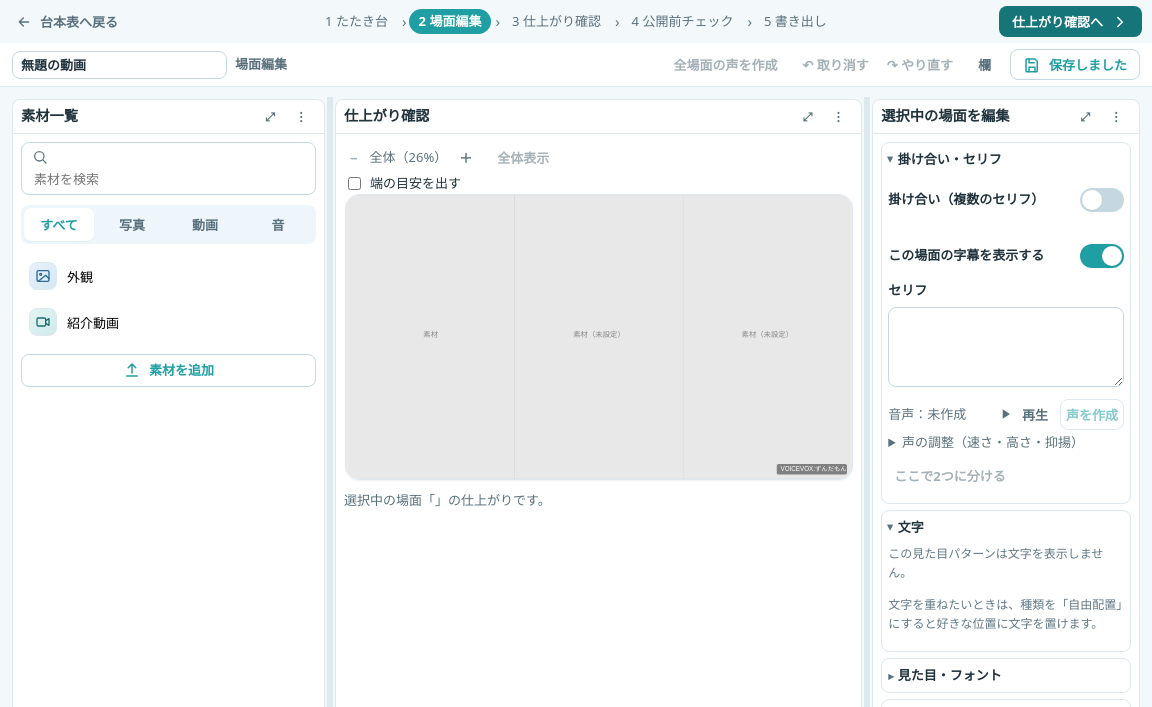
Test case: 掴んで差し込み口へ落とす（#1030 ②） › 入っている口へ落とすと、入れ替える前に確認を出す
Press the mouse on the button "外観": {"x": 43, "y": 276} [21, 254, 316, 298]
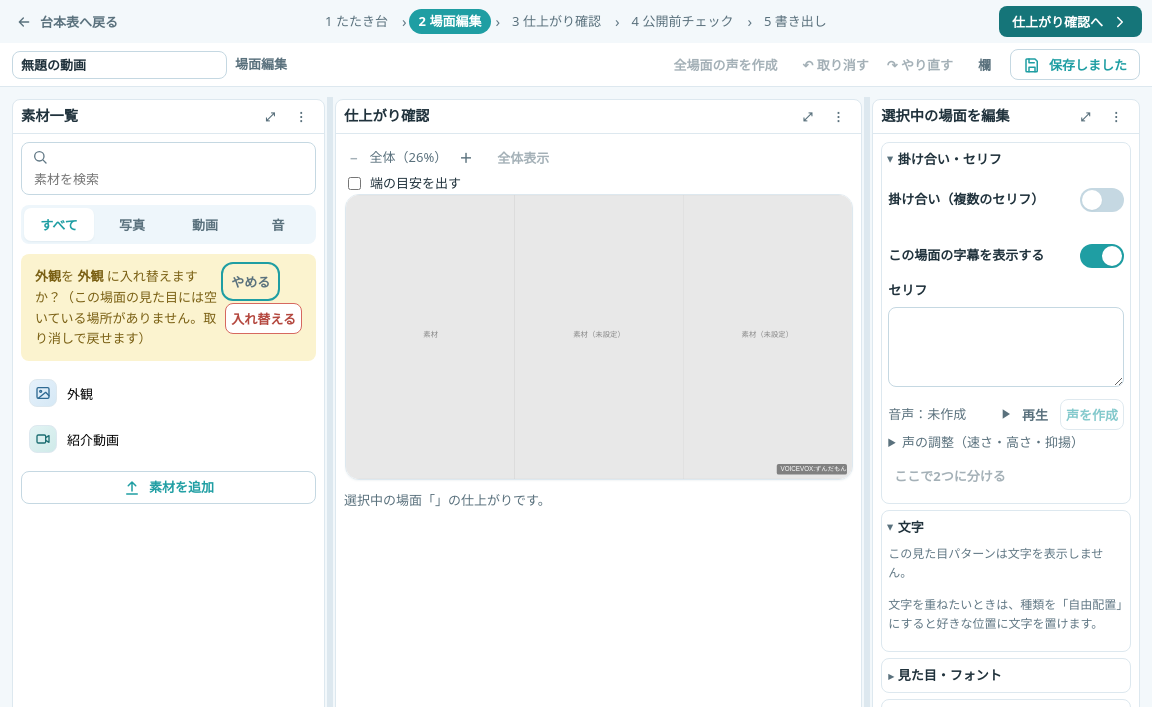
Check: the text "入れ替えますか" is shown, box [35, 267, 217, 347]
